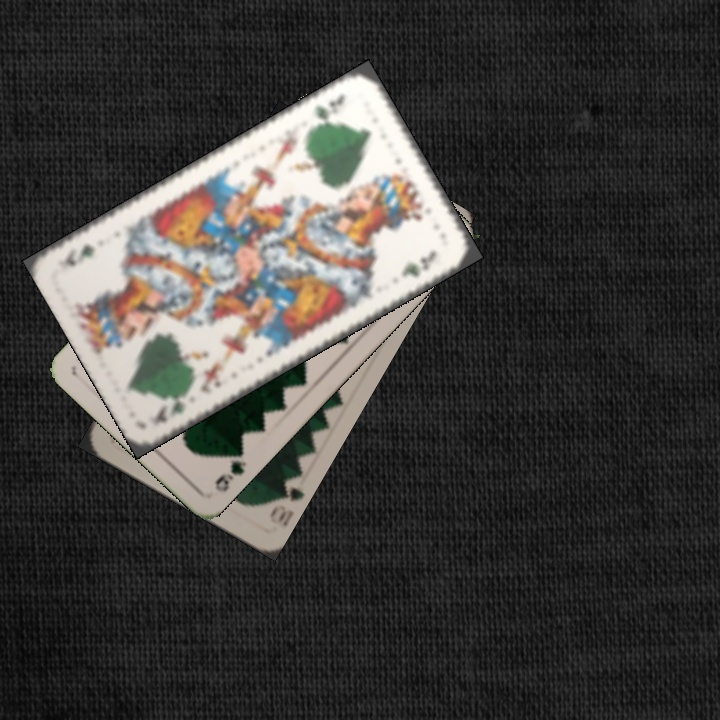G10: (265, 473, 305, 527)
G9: (210, 442, 249, 495)
GK: (149, 386, 194, 427), (309, 89, 348, 130)
